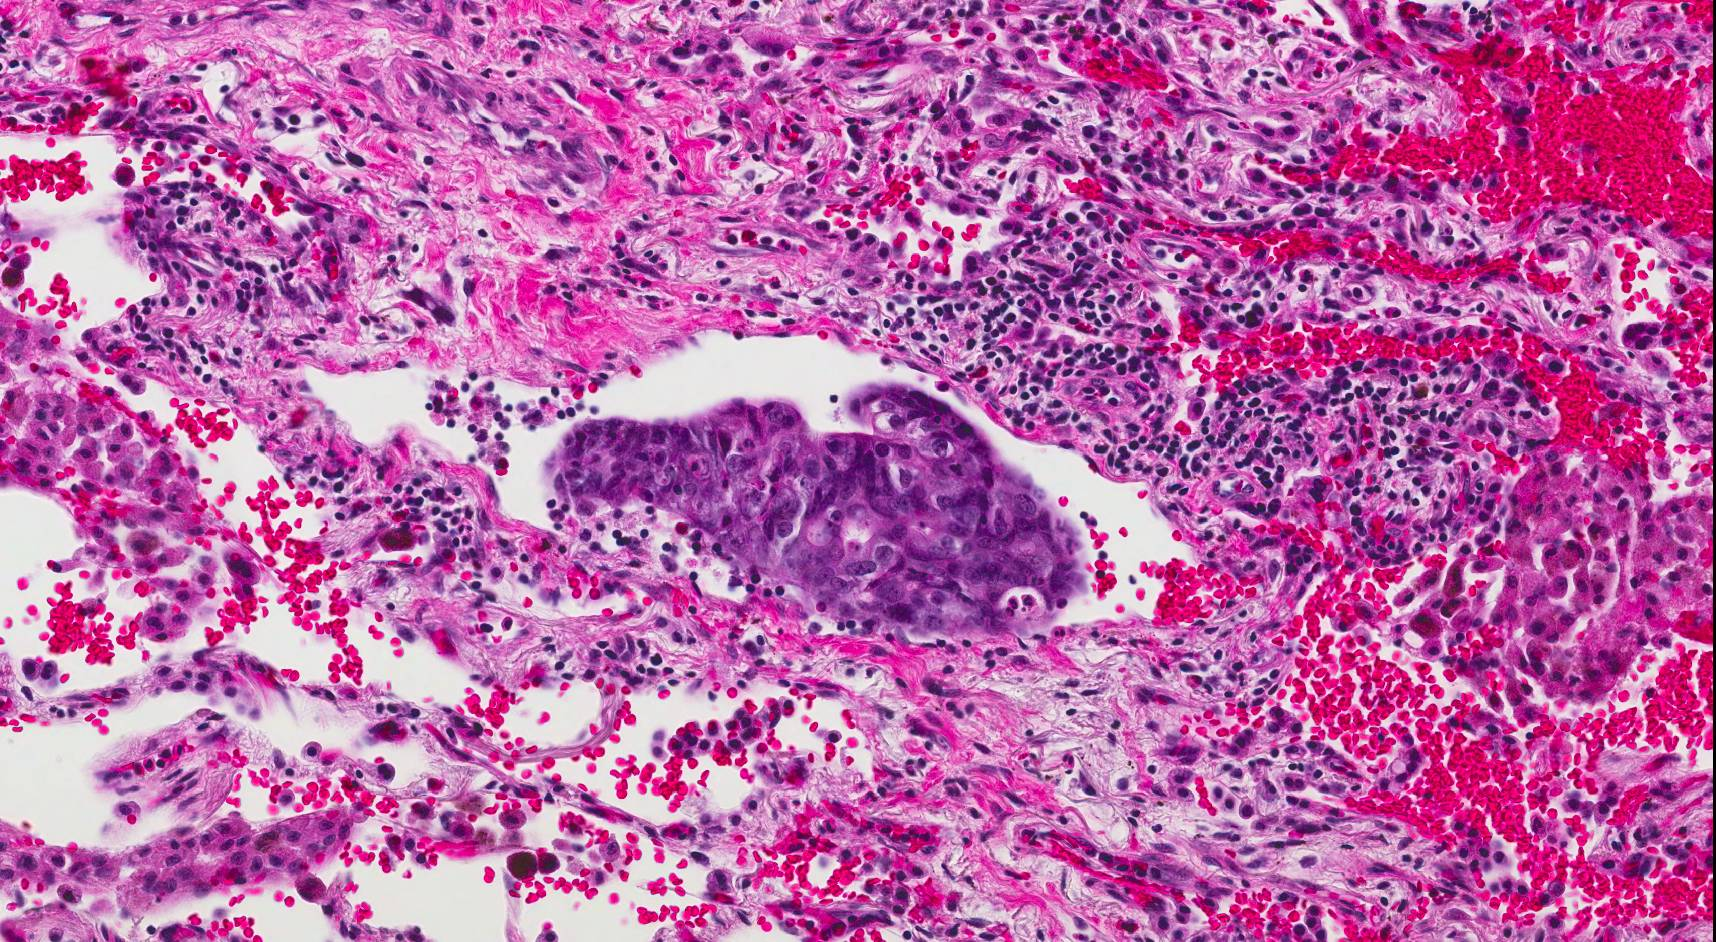stas: (547, 384, 1093, 626)
